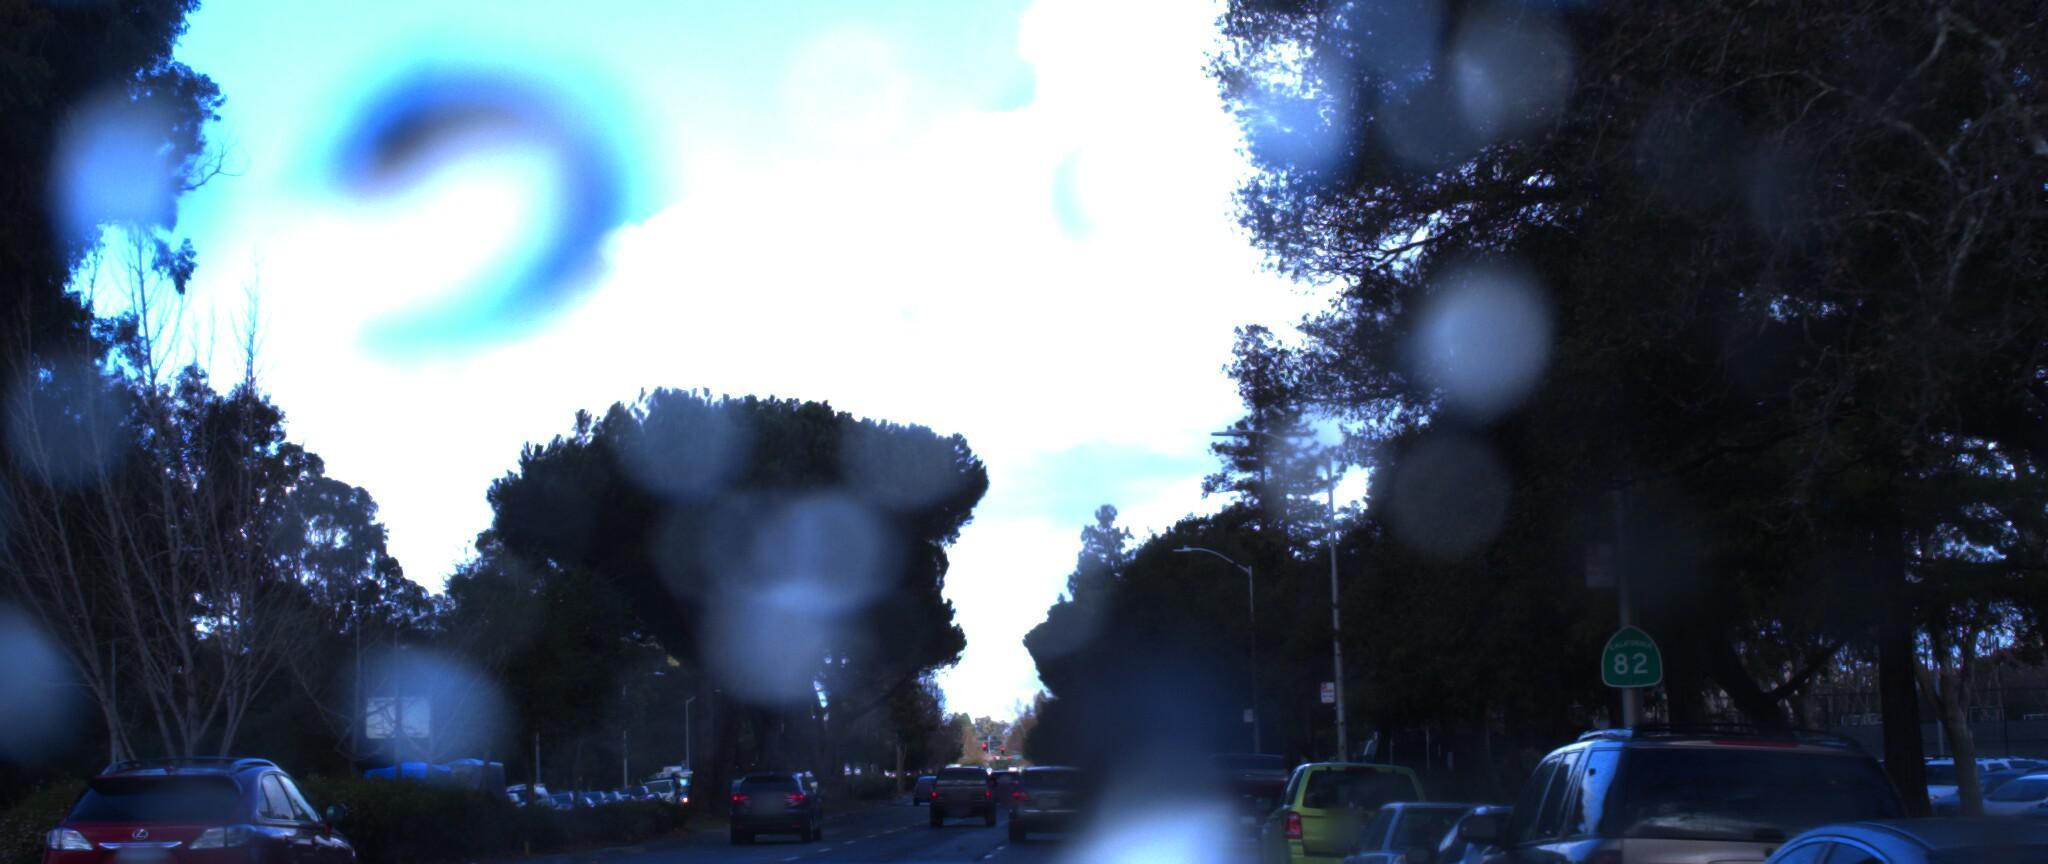car: (1403, 698, 1987, 864), (5, 740, 376, 864), (1569, 790, 2048, 864), (1382, 778, 1714, 864), (1236, 749, 1451, 864), (1314, 780, 1587, 864), (1196, 739, 1307, 841), (987, 752, 1097, 833), (724, 761, 831, 839), (0, 821, 35, 864)
